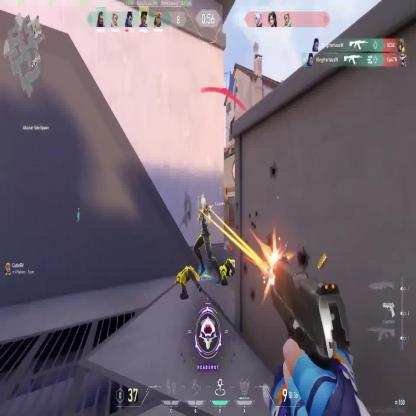enemy: (193, 192, 220, 277)
enemy_head: (201, 195, 206, 211)
